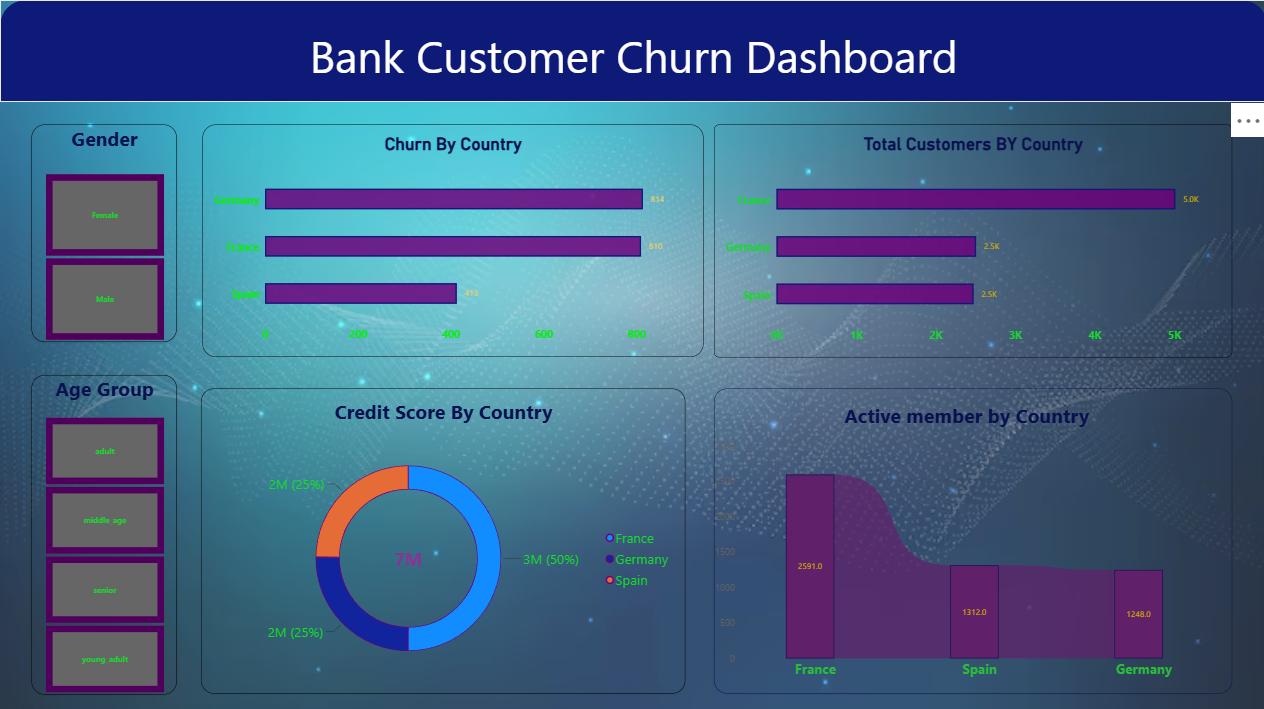

The dashboard page shown, as its layout file describes it:
{"tool":"powerbi","page":{"name":"Page 2","canvas":[1920,1080],"ordinal":1},"visuals":[{"type":"clusteredBarChart","title":"Churn By Country","fields":{"Category":["bank_churn_analysis.country"],"Y":["calculations.Total churned customers"]},"box":[306.6,188.5,758.6,352.1],"z":0},{"type":"clusteredBarChart","title":"Total Customers BY Country","fields":{"Category":["bank_churn_analysis.country"],"Y":["calculations.Total Customers"]},"box":[1081.4,187.9,784.4,352.9],"z":1},{"type":"shape","box":[0,0,1919.2,154.9],"z":2},{"type":"donutChart","title":"Credit Score By Country","fields":{"Category":["bank_churn_analysis.country"],"Y":["Sum(bank_churn_analysis.credit_score)"]},"box":[304.6,589,733.6,462],"z":3},{"type":"slicer","title":"Age Group","fields":{"Values":["bank_churn_analysis.age_group"]},"box":[47.7,567.8,220.3,483.8],"z":4},{"type":"ribbonChart","title":"Active member by Country","fields":{"Category":["bank_churn_analysis.country"],"Y":["Sum(bank_churn_analysis.active_member)"]},"box":[1081.4,589,784.4,462],"z":6},{"type":"slicer","title":"Gender","fields":{"Values":["bank_churn_analysis.gender"]},"box":[47.7,188.5,220.3,329.3],"z":7}]}

Visuals, with their boxes in screenshot pixels (x1, y1, x2, y2), scaled from the page's 1920x1080 canvas onto the 1264x709 screenshot:
"Churn By Country" clusteredBarChart: detection(202, 124, 701, 355)
"Total Customers BY Country" clusteredBarChart: detection(712, 123, 1228, 355)
shape: detection(0, 0, 1263, 102)
"Credit Score By Country" donutChart: detection(201, 387, 683, 690)
"Age Group" slicer: detection(31, 373, 176, 690)
"Active member by Country" ribbonChart: detection(712, 387, 1228, 690)
"Gender" slicer: detection(31, 124, 176, 340)
